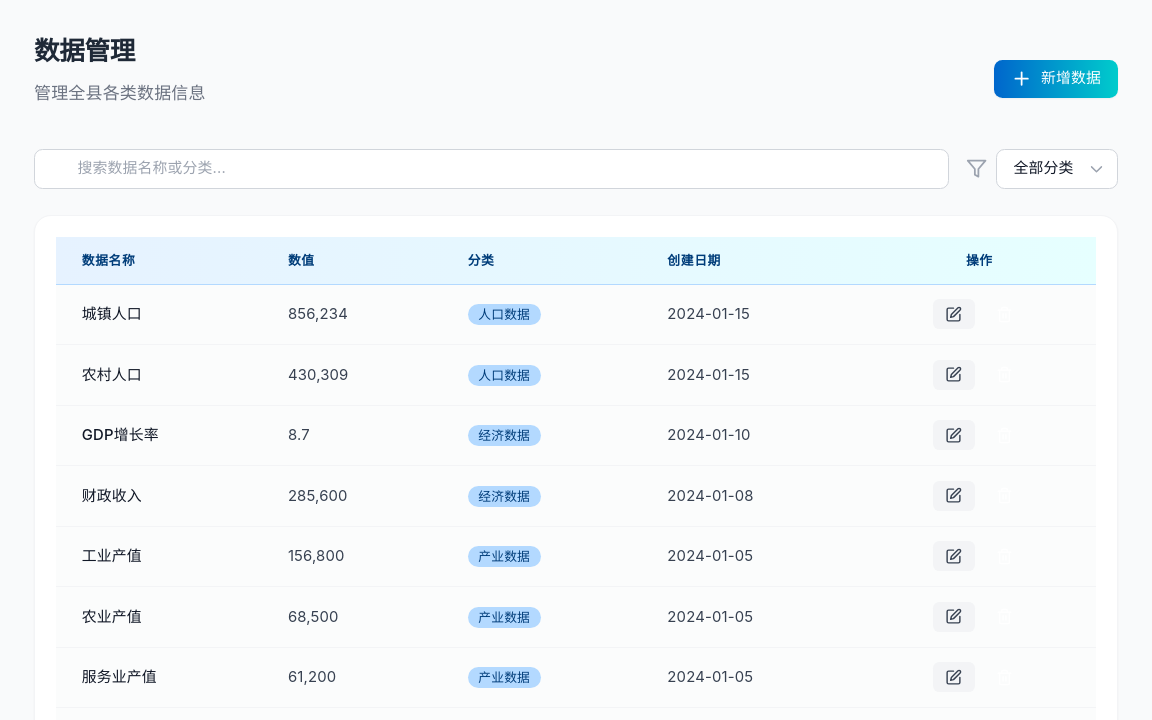
Test: DataManagement Page › shows error modal when form is submitted empty
Click the button "新增数据" at (1056, 79), box [994,60,1118,98]
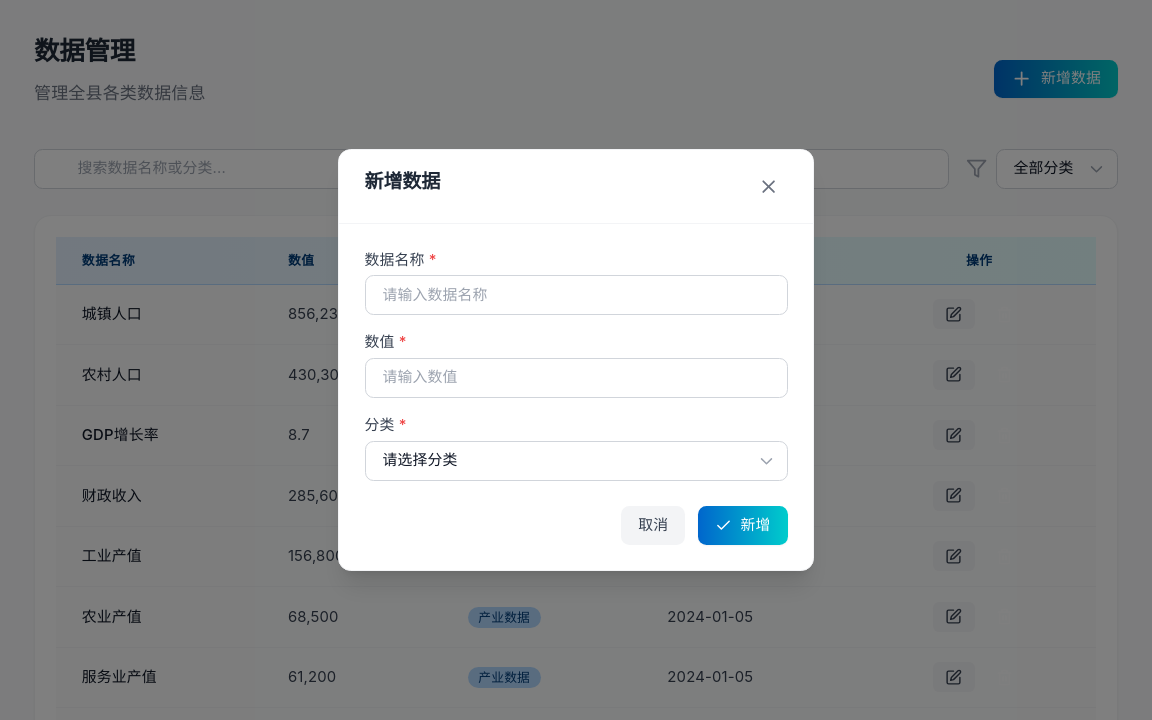
Click the button "新增" at (743, 526), box [698,506,788,545]
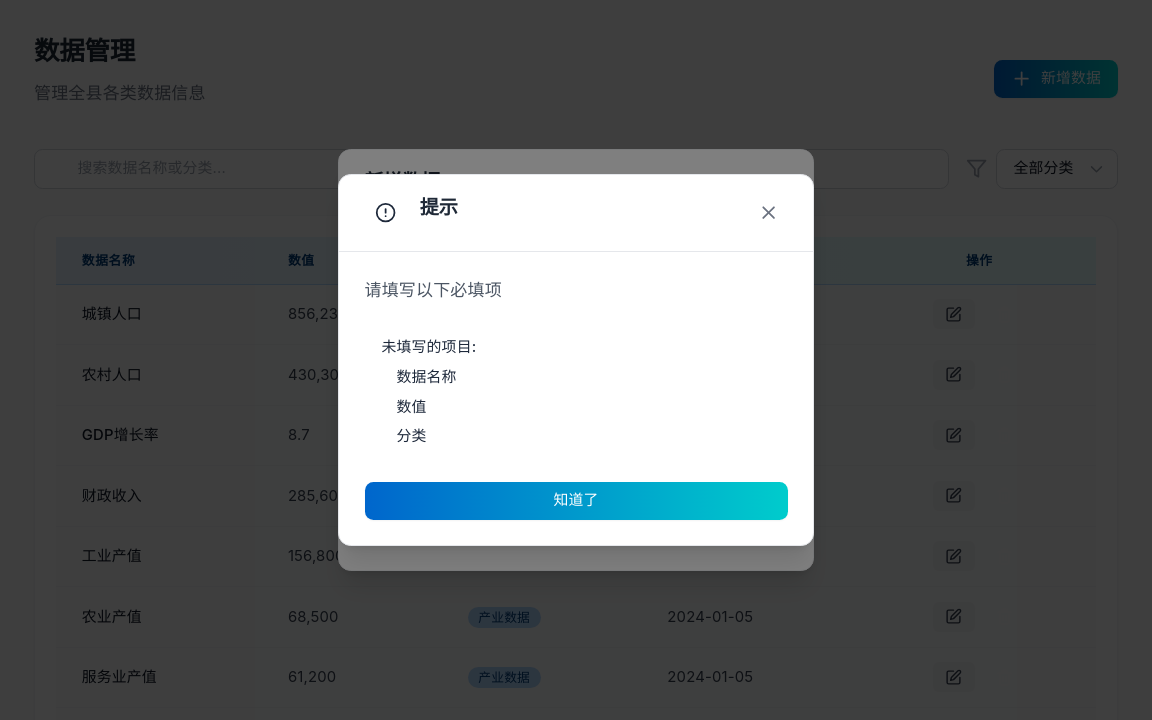
Expected: the dialog "提示" is shown, [338,174,814,546]
Expected: the text "请填写以下必填项" is shown, [364,280,502,300]
Expected: the list item "数据名称" is shown, [396,368,456,386]
